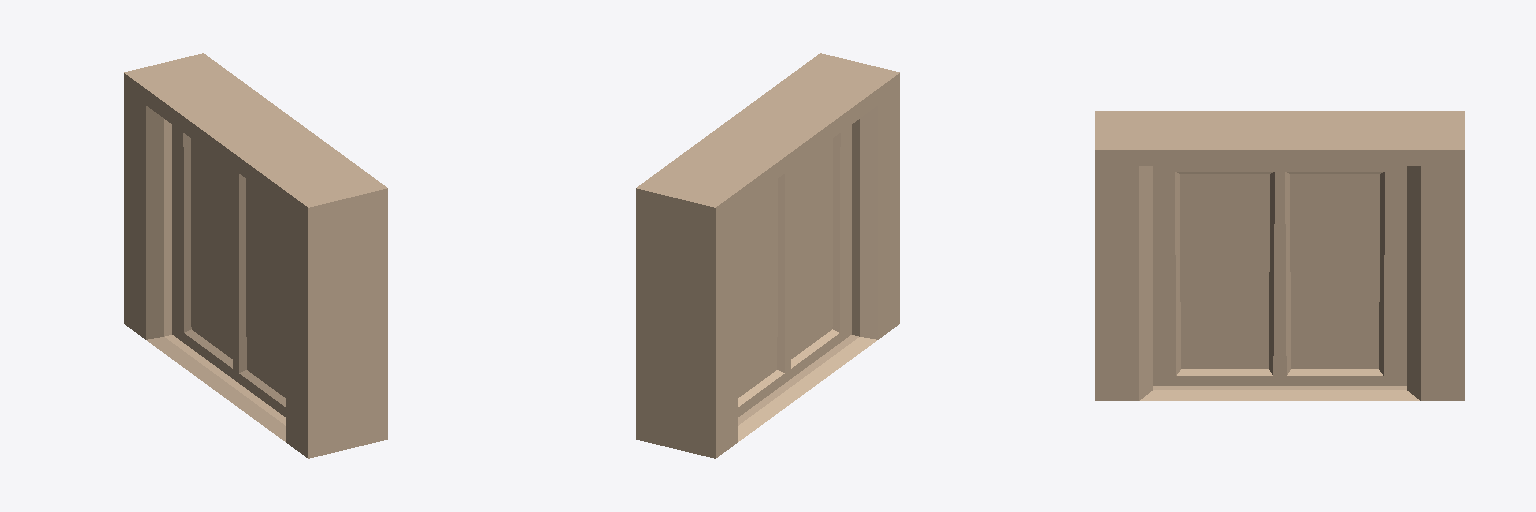
File: fire_door_old.obj
3 renders of one model, left to right at view 1: azimuth 30°, elevation 25°; view 2: azimuth 150°, elevation 25°; view 3: azimuth 270°, elevation 25°, orthographic.
Visible parts, largest first — view 1: frame, door; view 2: frame, door; view 3: door, frame.
Boxes of the visible parts, box(x1,y1,x2,y2) form: frame: box(124, 53, 387, 458); door: box(172, 125, 285, 416); frame: box(636, 53, 899, 458); door: box(738, 125, 851, 416); door: box(1153, 166, 1406, 385); frame: box(1095, 111, 1464, 400).
Size of the model in its own units: 1 by 3 by 4.